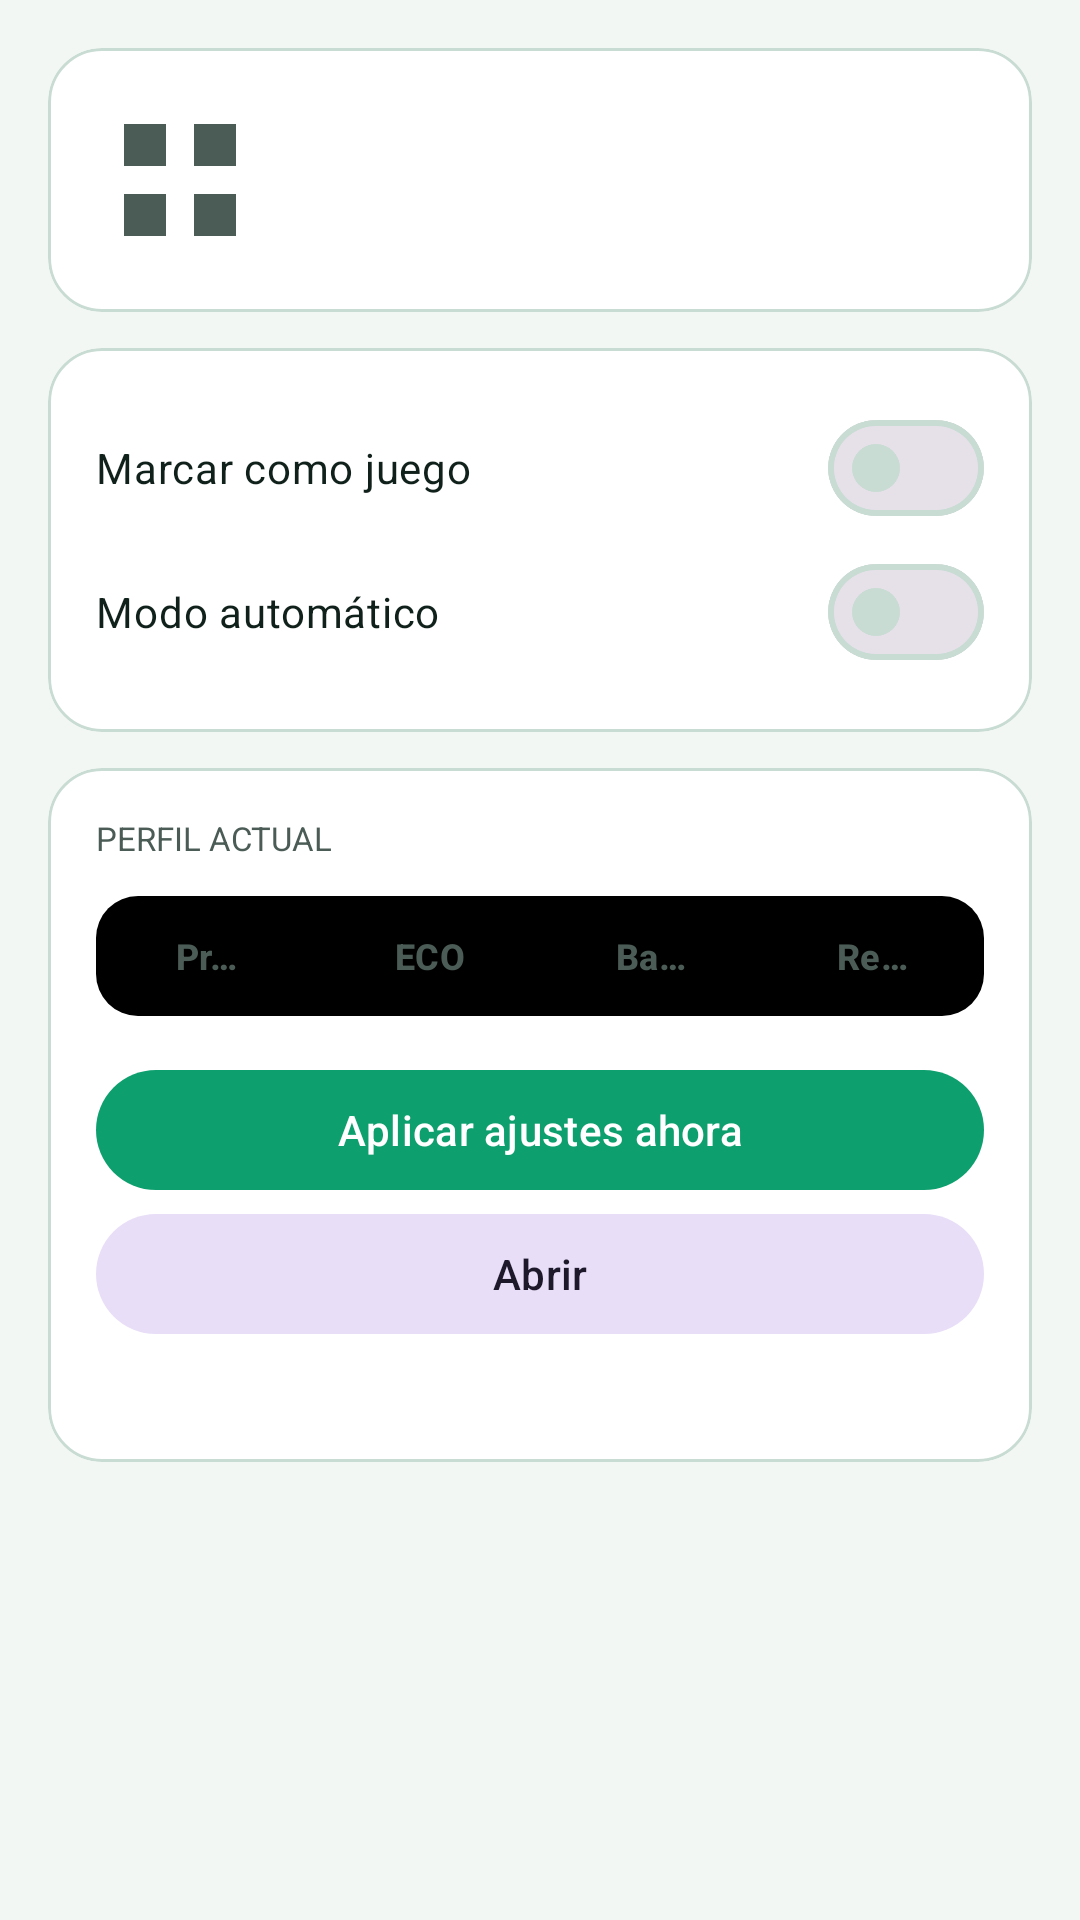

Icon click points for this 1080*1920 phone screenshot, format point (x, y):
apps: point (180, 180)
